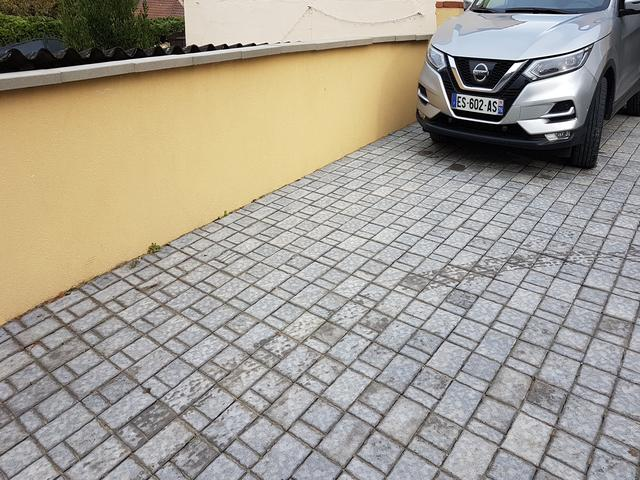Quashquai: (439, 83, 514, 124)
